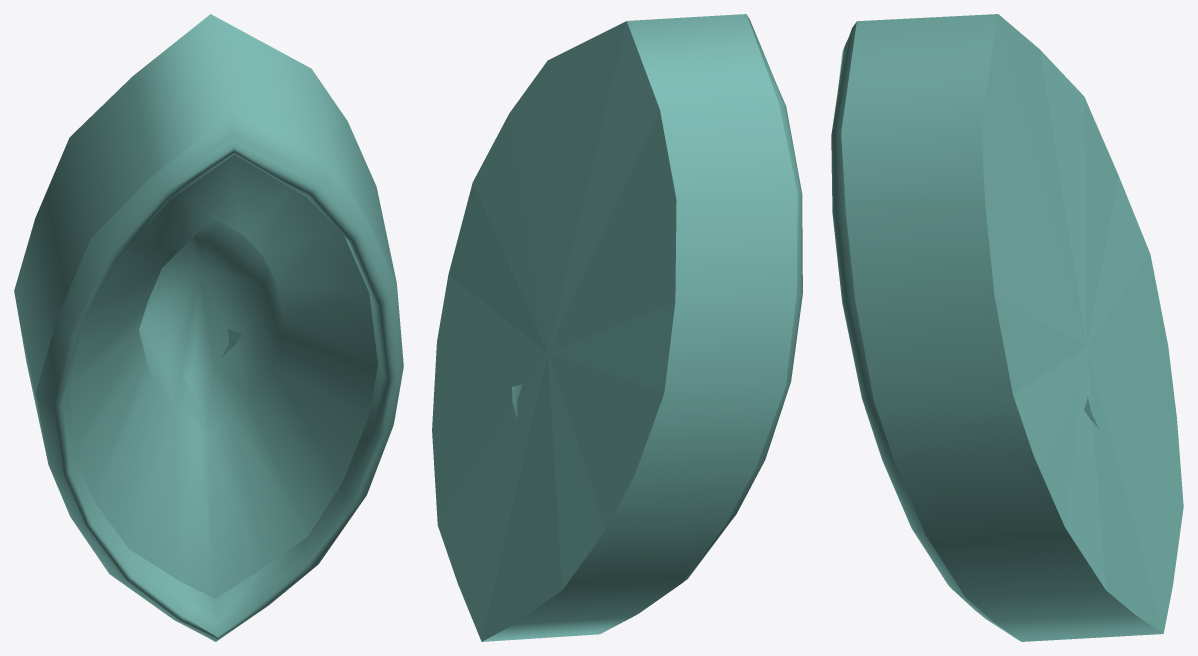
File: BL2_8shapes_Marquise_Classic_Metal.001 2.glb
3 views of the same model, side by side, from view 1: azimuth 30°, elevation 25°; view 2: azimuth 150°, elevation 25°; view 3: azimuth 270°, elevation 25° (orthographic). The views are drawn at different scales.
Visible parts, largest first — view 1: BL2_8shapes_Marquise_Classic_Metal.001; view 2: BL2_8shapes_Marquise_Classic_Metal.001; view 3: BL2_8shapes_Marquise_Classic_Metal.001.
Part boxes in pixels (x1,y1,x2,y2): BL2_8shapes_Marquise_Classic_Metal.001: [14, 14, 403, 641]; BL2_8shapes_Marquise_Classic_Metal.001: [432, 14, 802, 641]; BL2_8shapes_Marquise_Classic_Metal.001: [831, 14, 1183, 641].
Size of the model in its own units: 0.3998 by 0.6944 by 0.3575.
